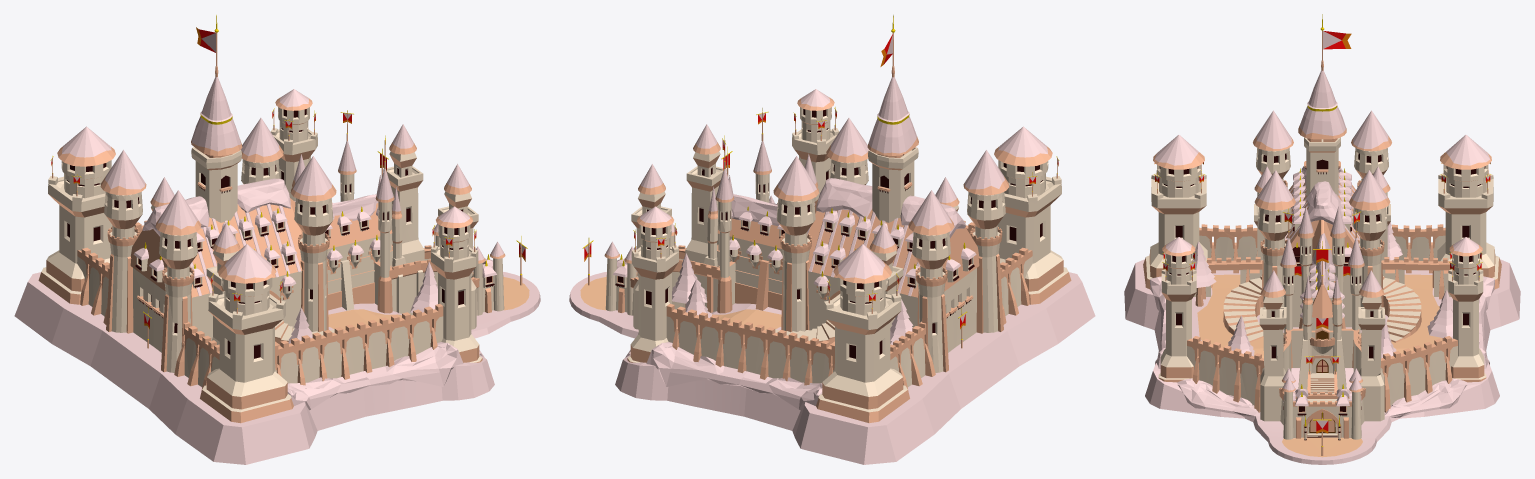
Rendered from Castle.fbx.
The picture shows the model from 3 angles, left to right: view 1: azimuth 30°, elevation 25°; view 2: azimuth 150°, elevation 25°; view 3: azimuth 270°, elevation 25°; orthographic projection. The views are drawn at different scales.
Parts seen in each view (by area): view 1: Castle; view 2: Castle; view 3: Castle.
Part boxes in pixels (x1,y1,x2,y2): Castle: (14,15,540,464); Castle: (569,15,1095,464); Castle: (1124,14,1520,464).
Bounding box in the file's own units: 3800 × 3032 × 3479.
